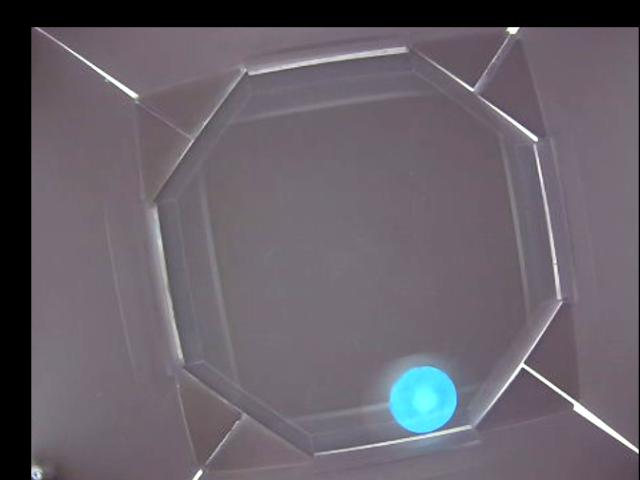Carrot: (389, 364, 458, 435)
